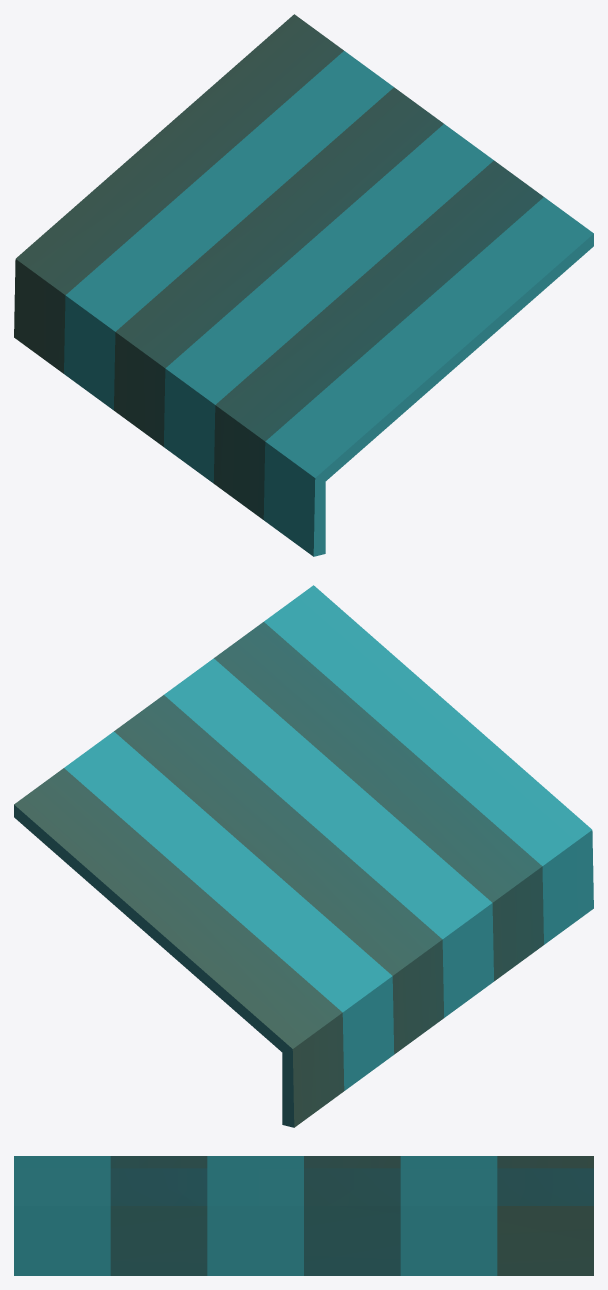
File: Awning_2_E.fbx
The picture shows the model from 3 angles, top to bottom: view 1: azimuth 30°, elevation 25°; view 2: azimuth 150°, elevation 25°; view 3: azimuth 270°, elevation 25°; orthographic projection. The views are drawn at different scales.
Visible parts, largest first — view 1: Awning_2_E; view 2: Awning_2_E; view 3: Awning_2_E.
Boxes of the visible parts, x1,y1,x2,y2 form: Awning_2_E: [14, 14, 593, 556]; Awning_2_E: [14, 585, 593, 1127]; Awning_2_E: [14, 1156, 593, 1275].
Size of the model in its own units: 111 by 96.45 by 205.
